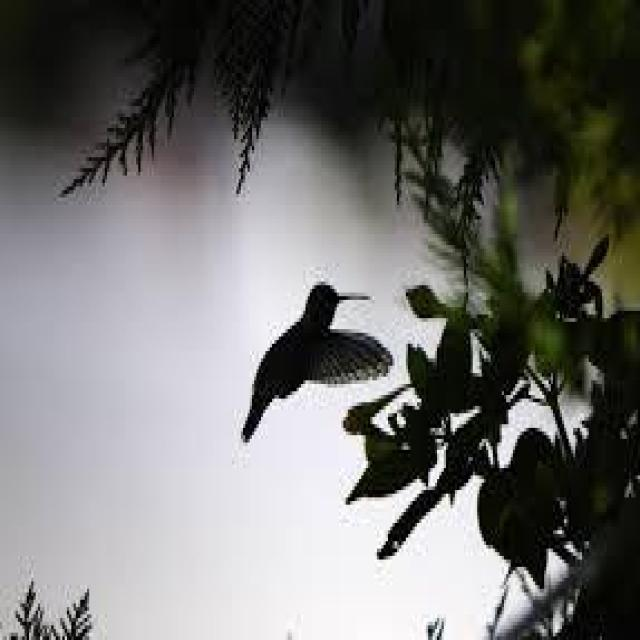bird: (238, 276, 395, 444)
